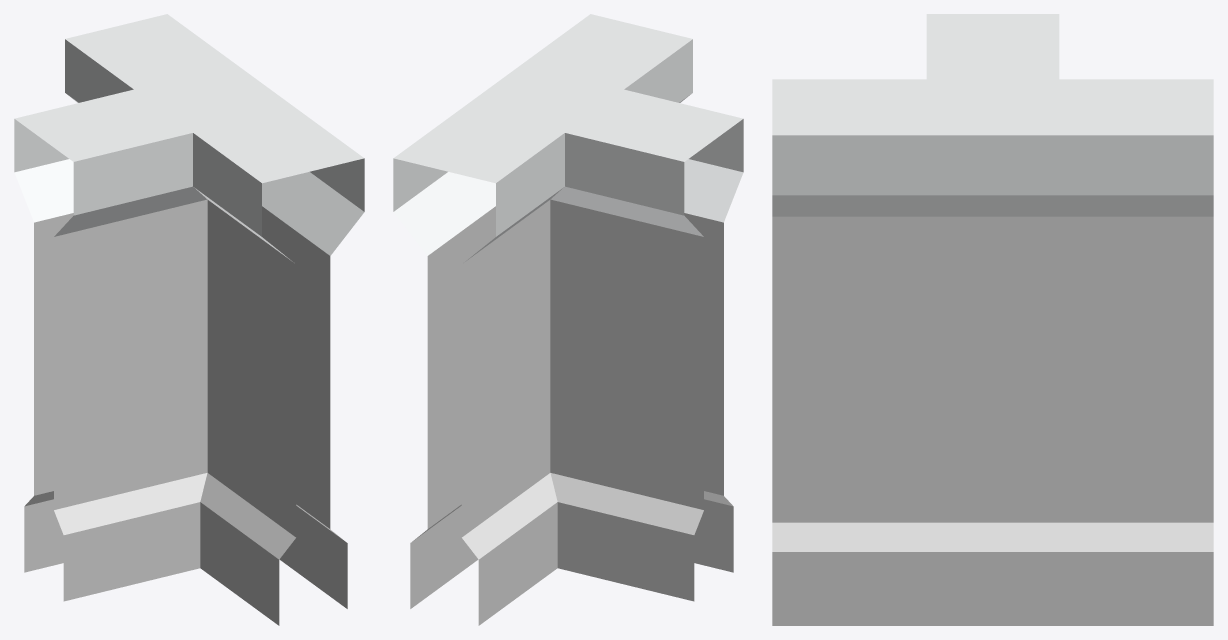
File: wall_t_m.fbx
3 renders of one model, left to right at view 1: azimuth 30°, elevation 25°; view 2: azimuth 150°, elevation 25°; view 3: azimuth 270°, elevation 25°, orthographic. The views are drawn at different scales.
Parts seen in each view (by area): view 1: wall_t_m; view 2: wall_t_m; view 3: wall_t_m.
Boxes of the visible parts, x1,y1,x2,y2 form: wall_t_m: (14,14,364,625); wall_t_m: (393,14,743,625); wall_t_m: (772,14,1213,625).
Bounding box in the file's own units: 1.3 × 2.5 × 2.
